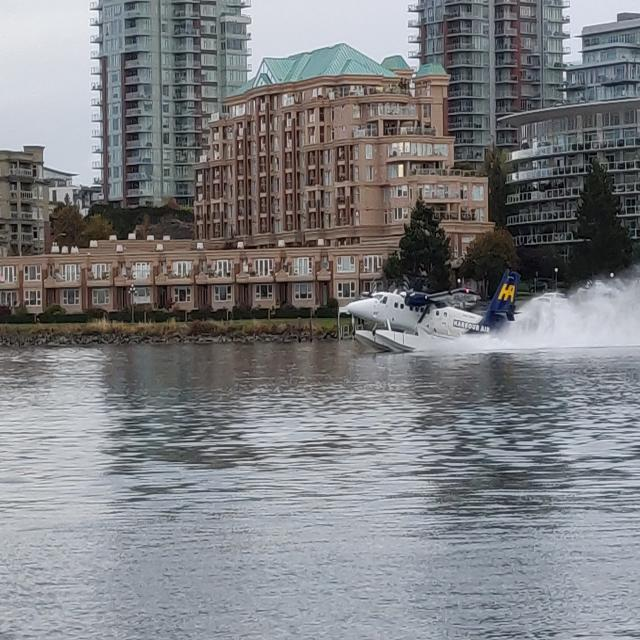aircraft: (345, 270, 525, 358)
